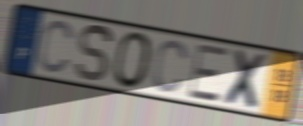C: (35, 18, 77, 75), (149, 38, 191, 95)
E: (186, 43, 230, 105)
O: (112, 30, 154, 91)
S: (74, 23, 116, 85)
X: (221, 46, 271, 113)
